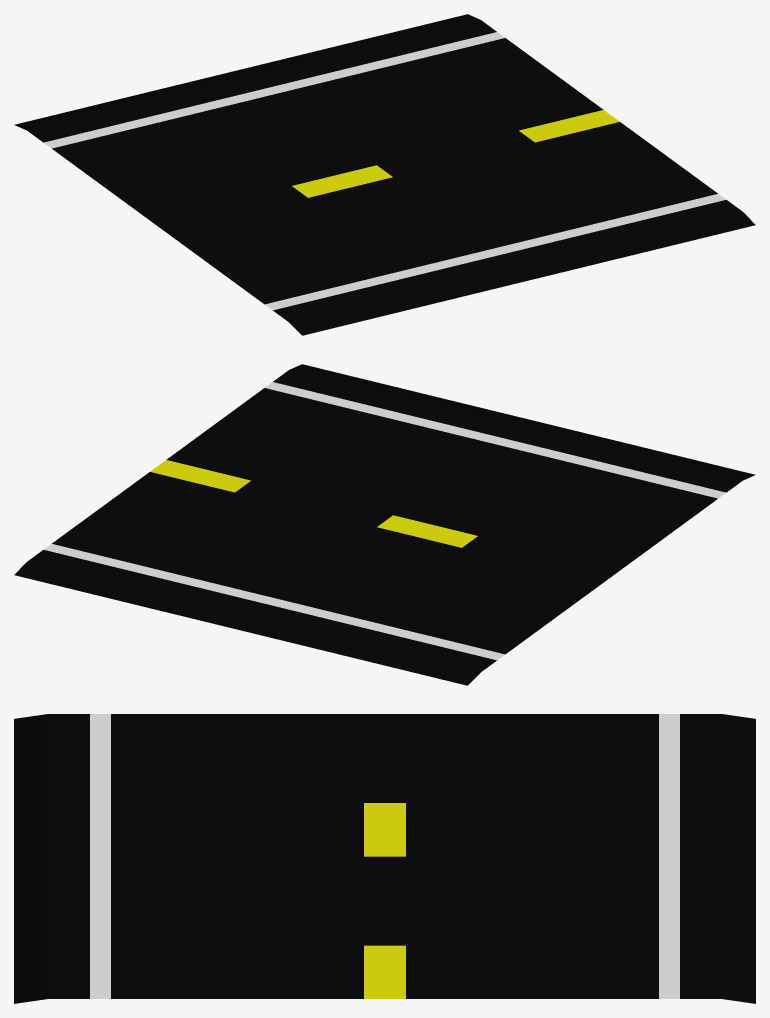
File: road.fbx
3 views of the same model, one above another, from view 1: azimuth 30°, elevation 25°; view 2: azimuth 150°, elevation 25°; view 3: azimuth 270°, elevation 25° (orthographic). The views are drawn at different scales.
Parts seen in each view (by area): view 1: SM_ROAD; view 2: SM_ROAD; view 3: SM_ROAD.
Part boxes in pixels (x1=…): SM_ROAD: x1=14, y1=14, x2=755, y2=335; SM_ROAD: x1=14, y1=364, x2=755, y2=685; SM_ROAD: x1=14, y1=714, x2=755, y2=1003.
Size of what is drawn, in the model's own units: 1000 by 8 by 1100.
